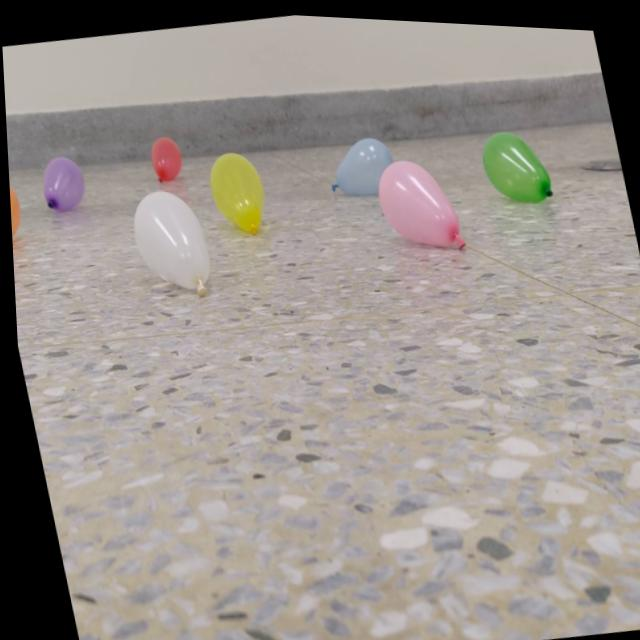other: (122, 181, 216, 302), (370, 146, 467, 255), (200, 142, 271, 243), (475, 120, 553, 205), (320, 127, 398, 196), (35, 151, 87, 214), (7, 168, 26, 252)
red: (144, 130, 185, 184)
